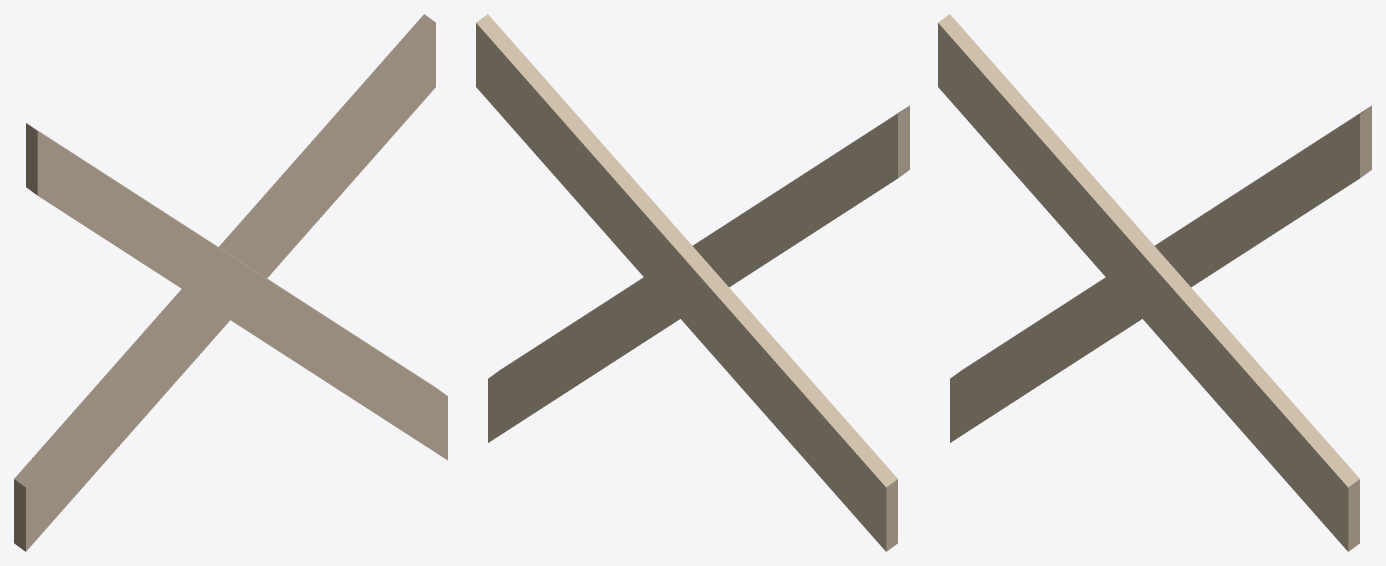
Rendered from Waterwheel_Flume_Support_Brace_Double.glb.
3 views of the same model, side by side, from view 1: azimuth 30°, elevation 25°; view 2: azimuth 150°, elevation 25°; view 3: azimuth 330°, elevation 25° (orthographic).
Parts seen in each view (by area): view 1: flume_support_brace; view 2: flume_support_brace; view 3: flume_support_brace.
Part boxes in pixels (left/top/right/bottom): flume_support_brace: left=14, top=14, right=447, bottom=551; flume_support_brace: left=476, top=14, right=909, bottom=551; flume_support_brace: left=938, top=14, right=1371, bottom=551.
Size of the model in its own units: 1 by 1 by 0.1.
